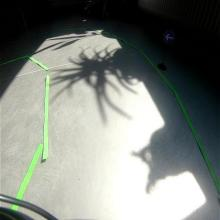left: (163, 29, 175, 44)
